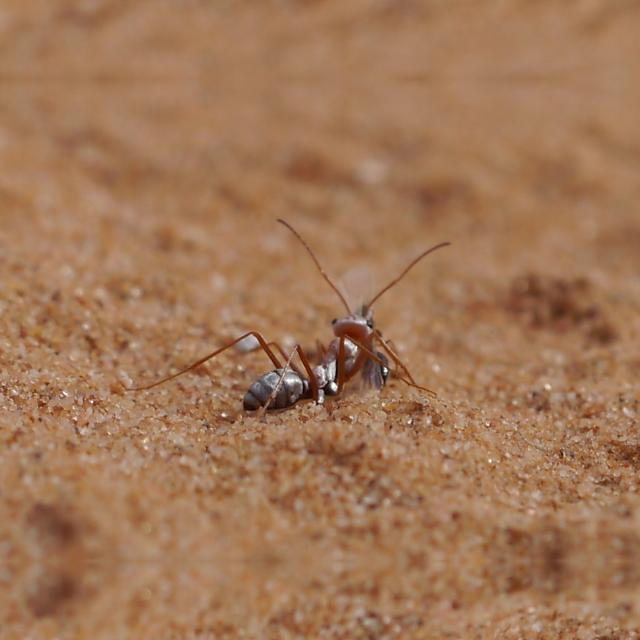Cataglyphis: (211, 278, 421, 432)
